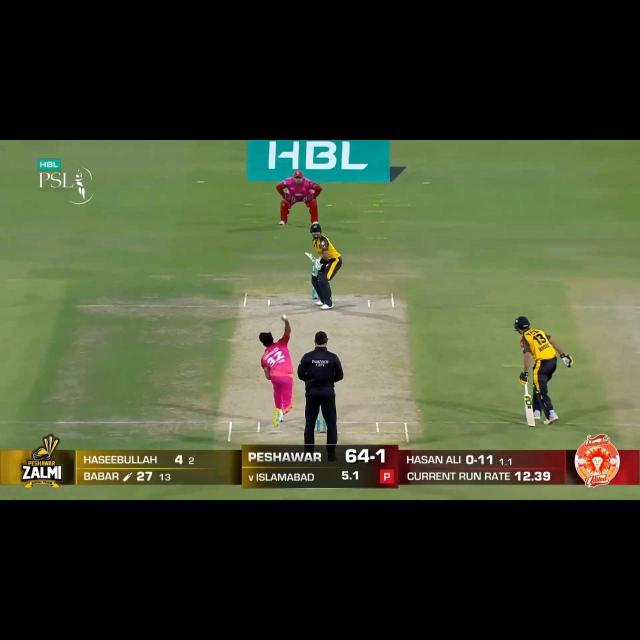bat: (524, 395, 538, 428), (302, 250, 318, 263)
toe: (527, 419, 537, 428), (303, 250, 311, 258)
